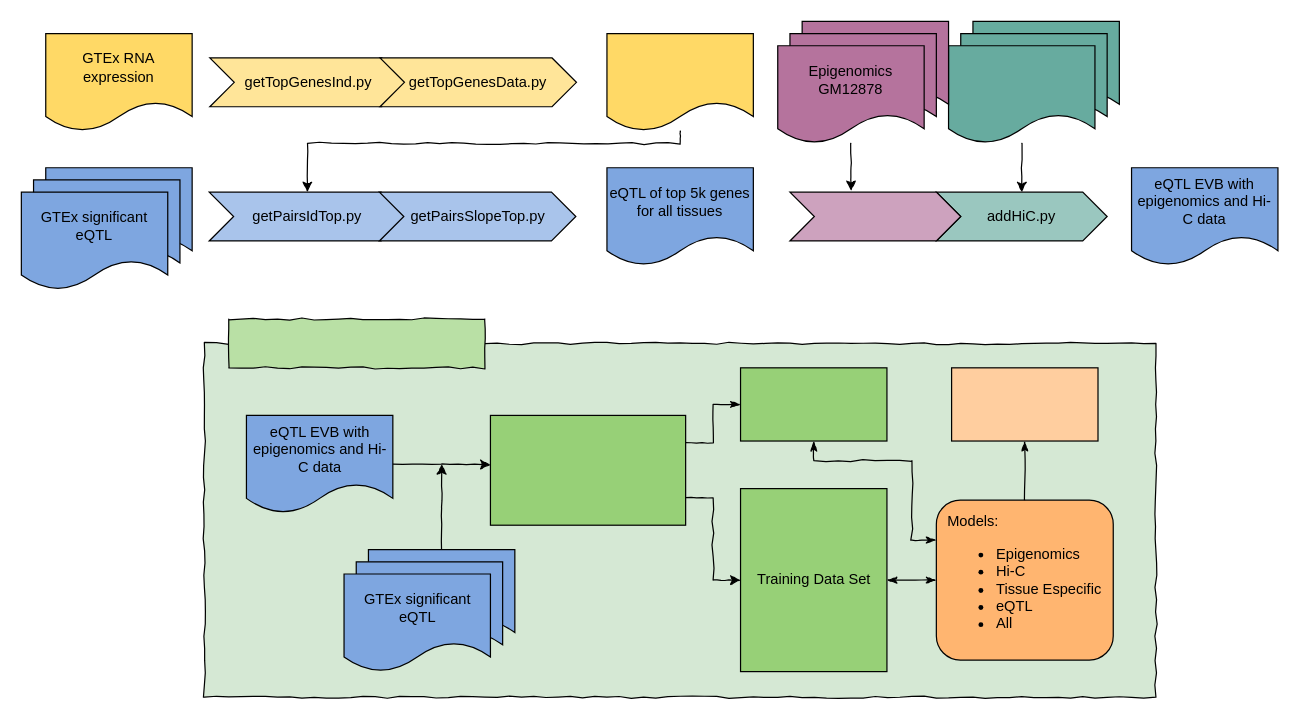
Image size: 1299x719. Some labels were removed from this diagram. Here are the shapes that lost their labels. From the top down, the centre of each, then its label:
(679,81): Top 5k expressed genes expression
(1021,94): Hi-C GM12878
(875,216): addLinear.ipynb
(356,343): Modeling.ipynb
(813,404): Validation Data Set
(1024,404): Figures of merit
(587,469): eQTL EVB with epigenomics, eQTL from other tissues and Hi-C data
